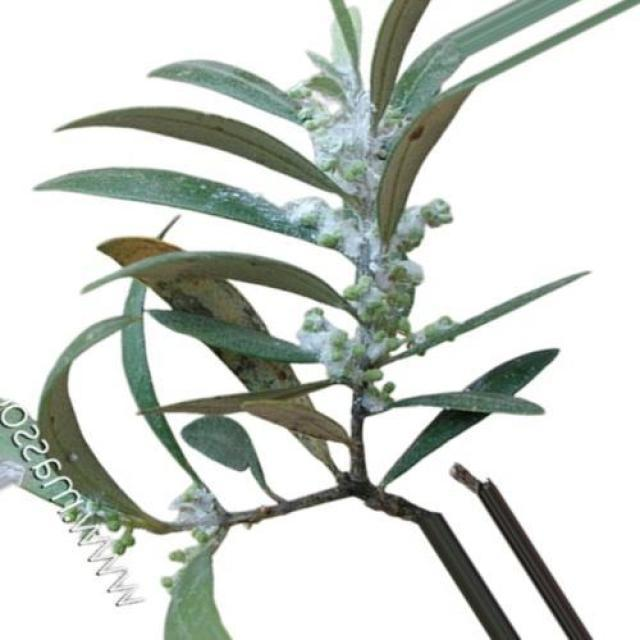Psyllid: (284, 34, 461, 408), (170, 484, 232, 533)
